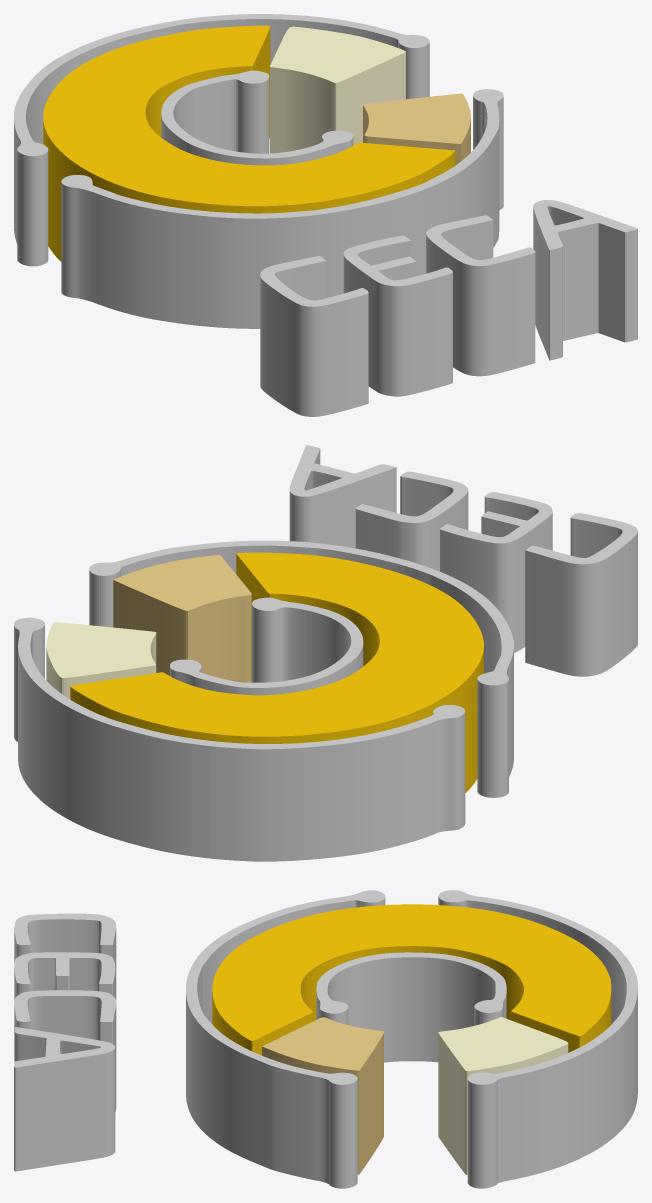
Rendered from metallic.gltf.
3 renders of one model, top to bottom at view 1: azimuth 30°, elevation 25°; view 2: azimuth 150°, elevation 25°; view 3: azimuth 270°, elevation 25°, orthographic. The views are drawn at different scales.
Size of the model in its own units: 40.17 by 10 by 54.44.
